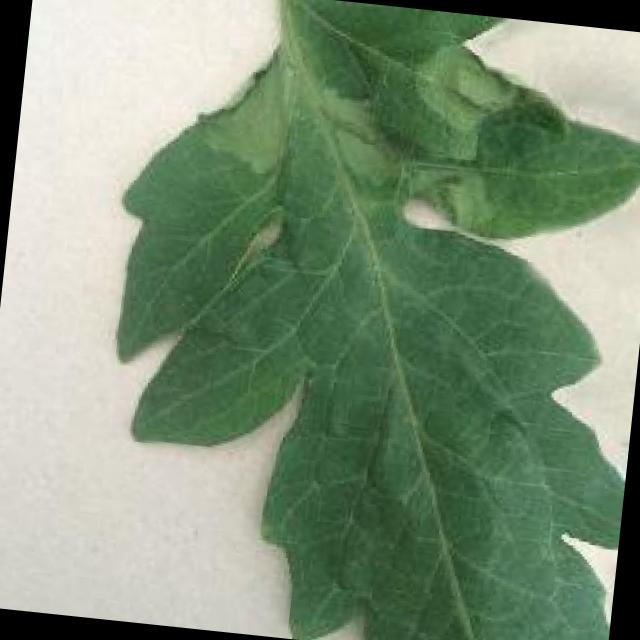Tomato_Late_Blight: (159, 45, 526, 218)
